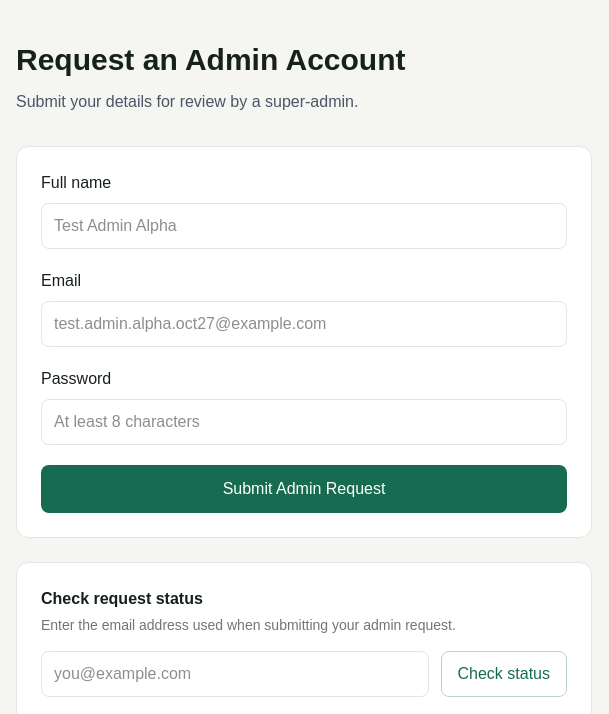
Test: RequestAdminAccountPage status workflow › shows the checked status and offers to resubmit rejected requests
Type "person@example.test" into the field named "Request email" at (235, 674), box [41,651,428,697]
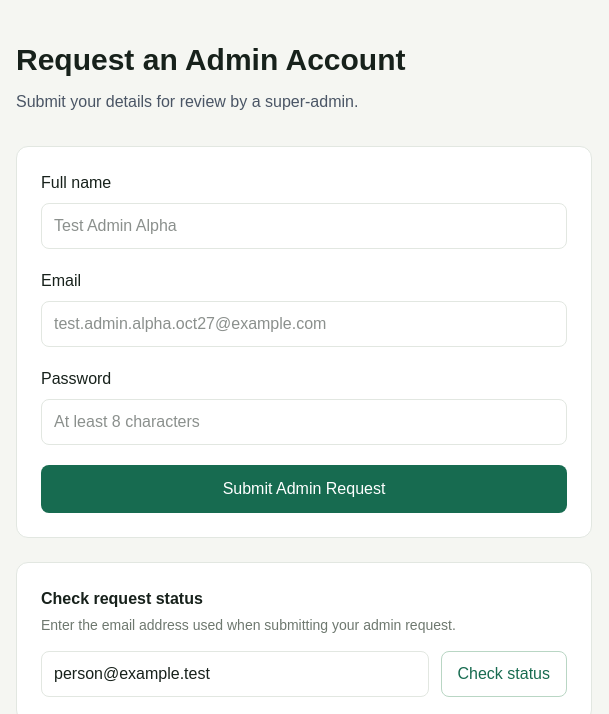
Click the button "Check status" at (504, 674), box [440,651,567,697]
(page scrolled)
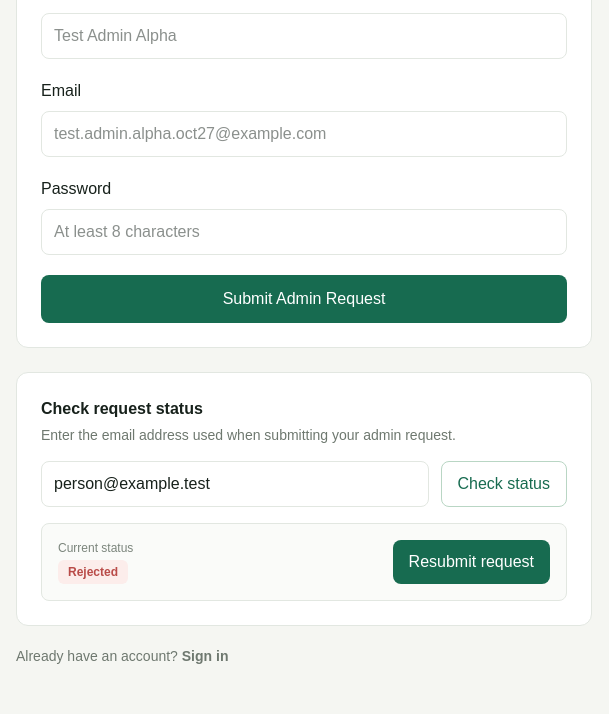
Check: the text "Rejected" is shown, box [58,560,128,584]
Click the button "Resubmit request" at (471, 562), box [393,540,550,584]
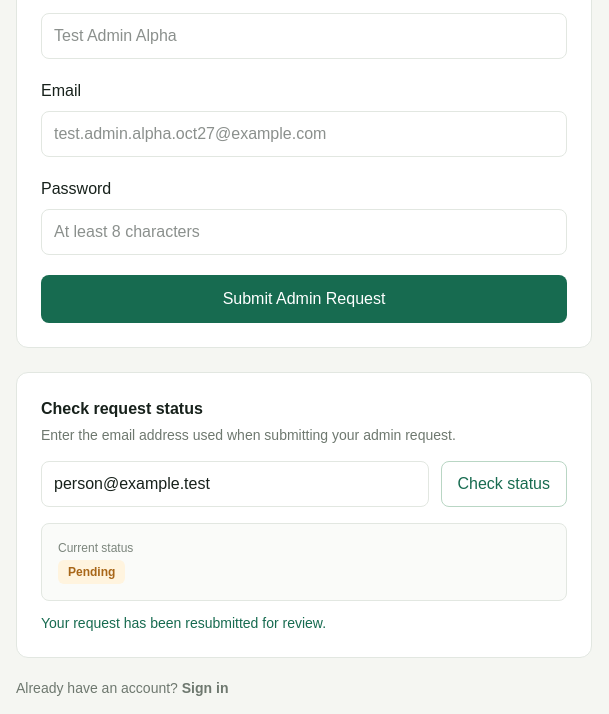
Check: the text "Pending" is shown, box [58,560,125,584]
Check: the text "Your request has been resubmitted for review." is shown, box [41,615,326,631]
